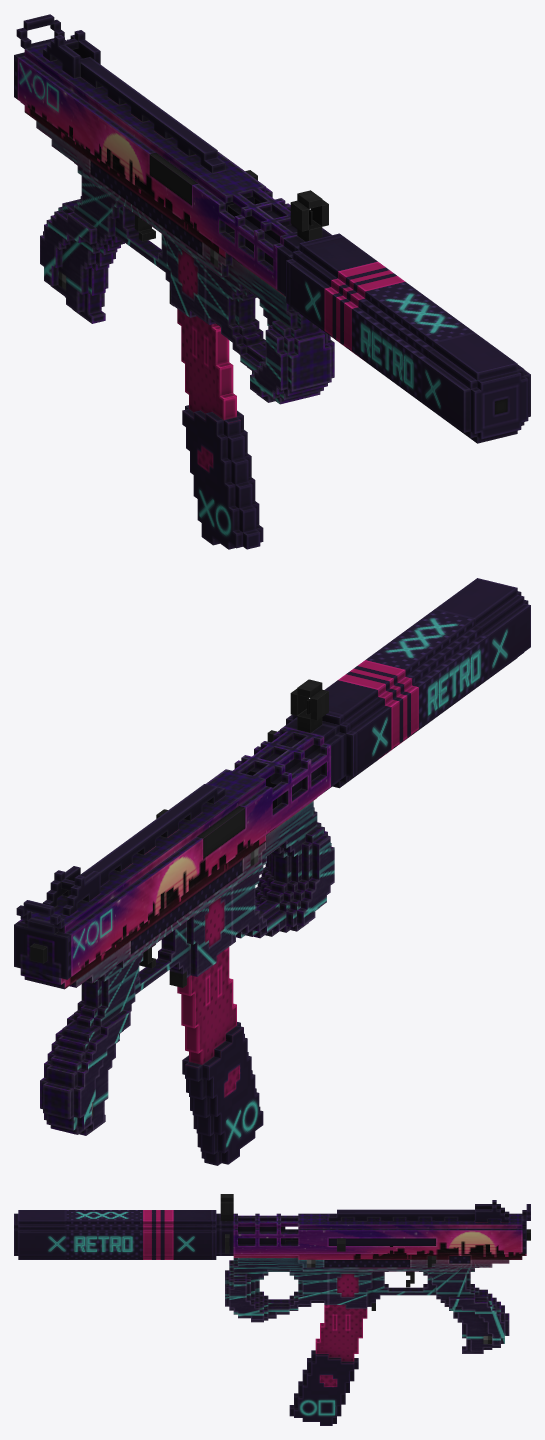
Rendered from RD_AGRAM2000_RETRO.glb.
The picture shows the model from 3 angles, top to bottom: view 1: azimuth 30°, elevation 25°; view 2: azimuth 150°, elevation 25°; view 3: azimuth 270°, elevation 25°; orthographic projection. The views are drawn at different scales.
Visible parts, largest first — view 1: AGRAM2000, AGRAM2000_SILENCER, AGRAM2000_CLIP; view 2: AGRAM2000, AGRAM2000_SILENCER, AGRAM2000_CLIP; view 3: AGRAM2000, AGRAM2000_SILENCER, AGRAM2000_CLIP.
Boxes of the visible parts, <box> form: AGRAM2000: <box>14,14,334,404</box>; AGRAM2000_SILENCER: <box>245,211,530,443</box>; AGRAM2000_CLIP: <box>177,309,263,549</box>; AGRAM2000: <box>14,679,342,1135</box>; AGRAM2000_SILENCER: <box>246,578,530,808</box>; AGRAM2000_CLIP: <box>177,947,263,1165</box>; AGRAM2000: <box>220,1194,530,1353</box>; AGRAM2000_SILENCER: <box>14,1210,285,1259</box>; AGRAM2000_CLIP: <box>289,1305,367,1425</box>.
Size of the model in its own units: 0.1181 by 0.5709 by 1.18.
Materials: 1 (1 with a texture image).
